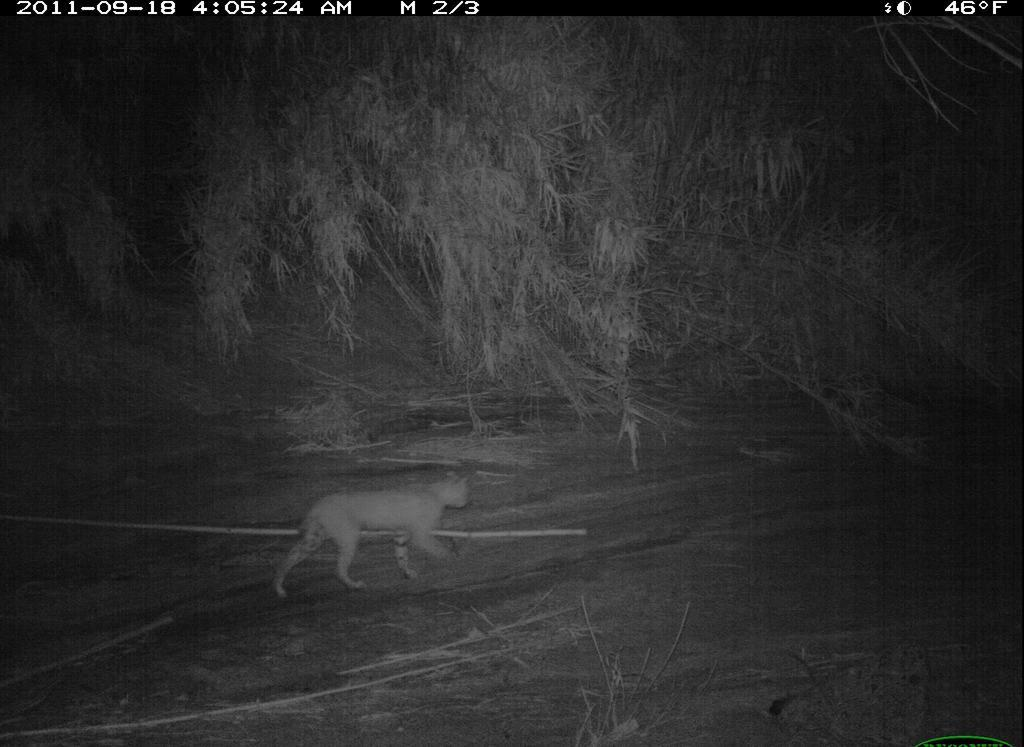bobcat: (271, 470, 484, 603)
